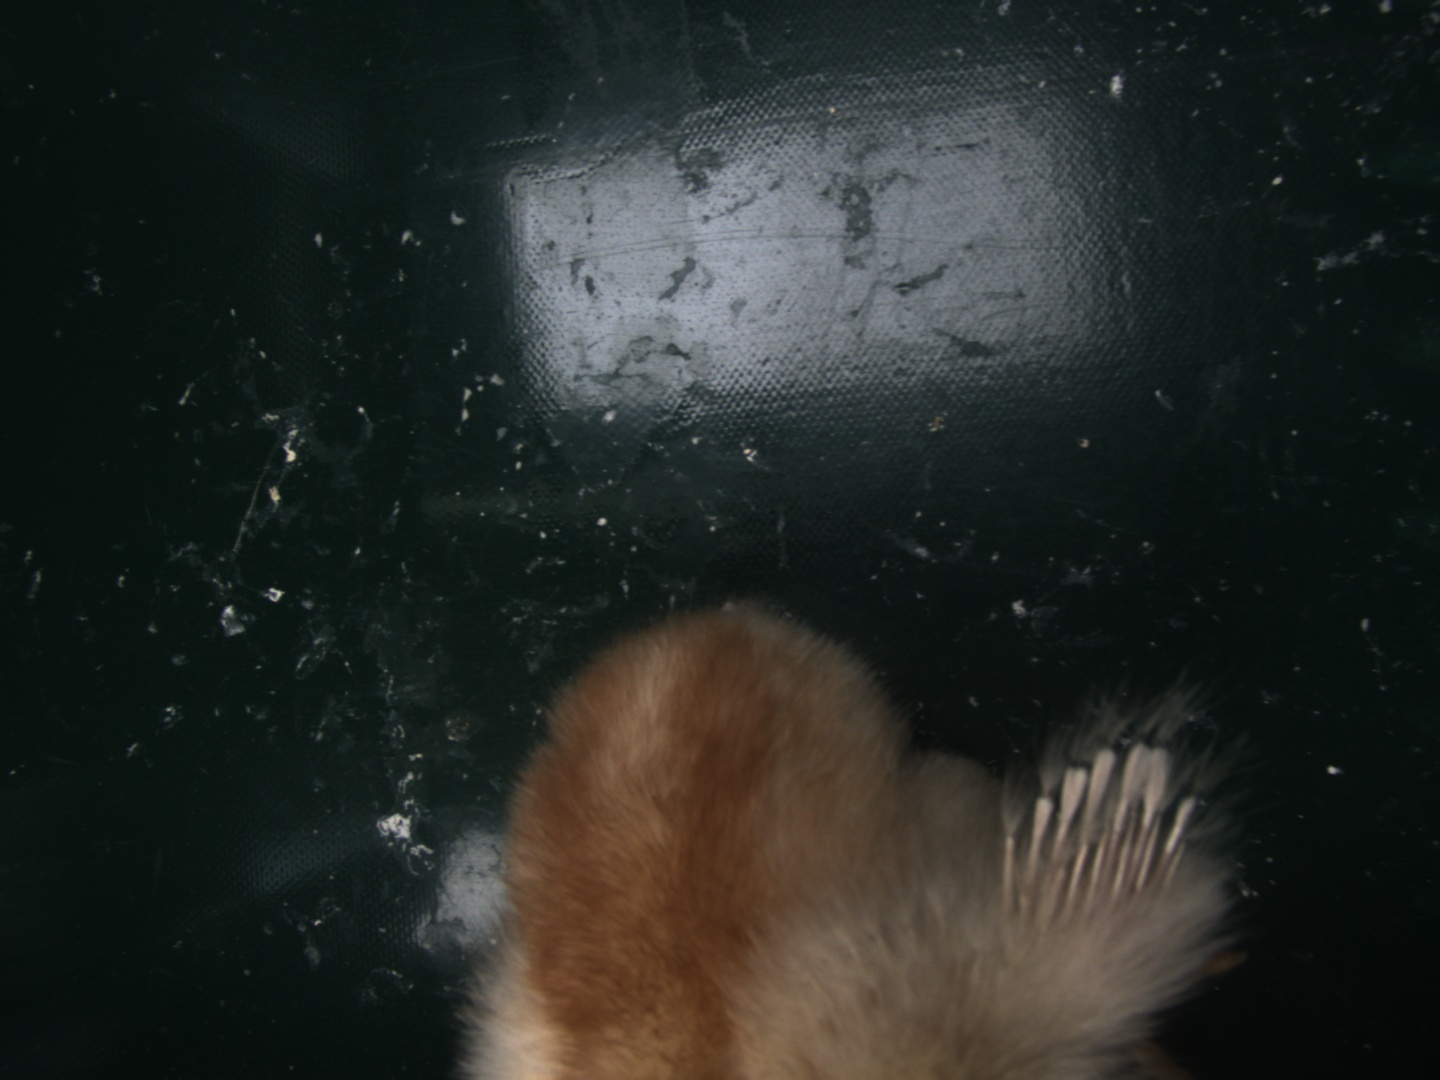female: (1003, 743, 1196, 928)
